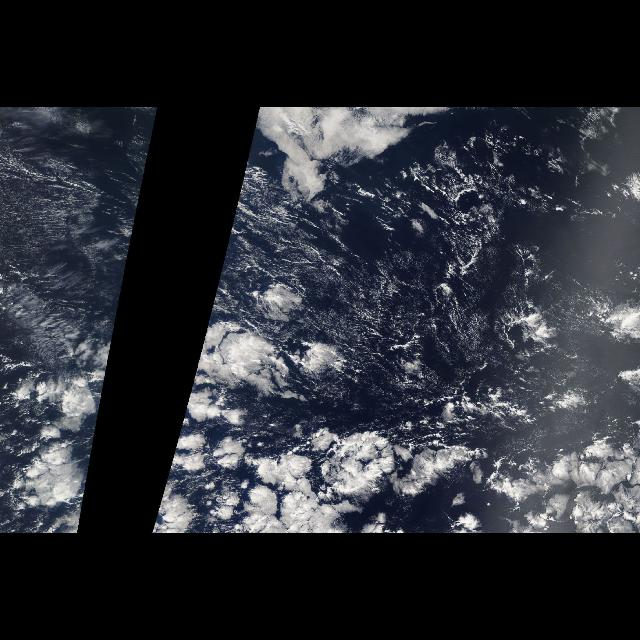Flower: (149, 321, 633, 533), (3, 321, 117, 533)
Sugar: (208, 108, 534, 364), (0, 107, 158, 320)
